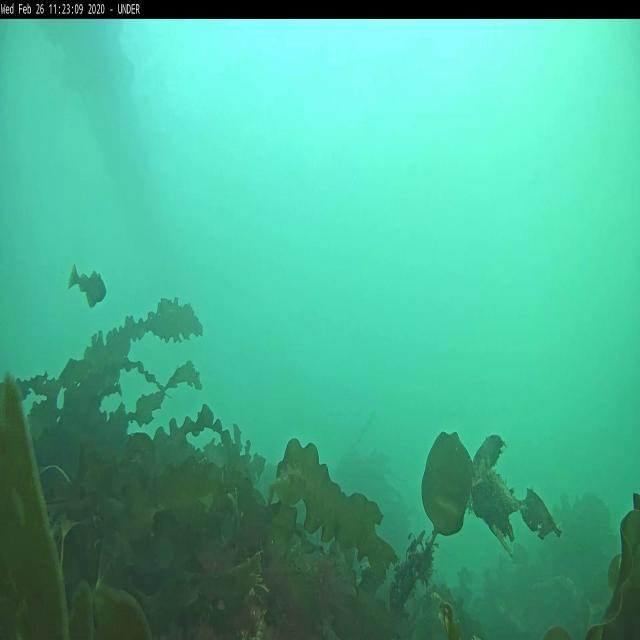fish: (68, 263, 108, 305)
